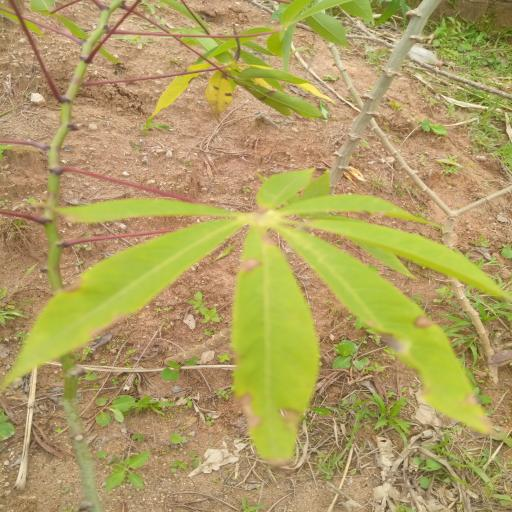Cassava_Brown_Leaf_Spot: (5, 167, 512, 465)
